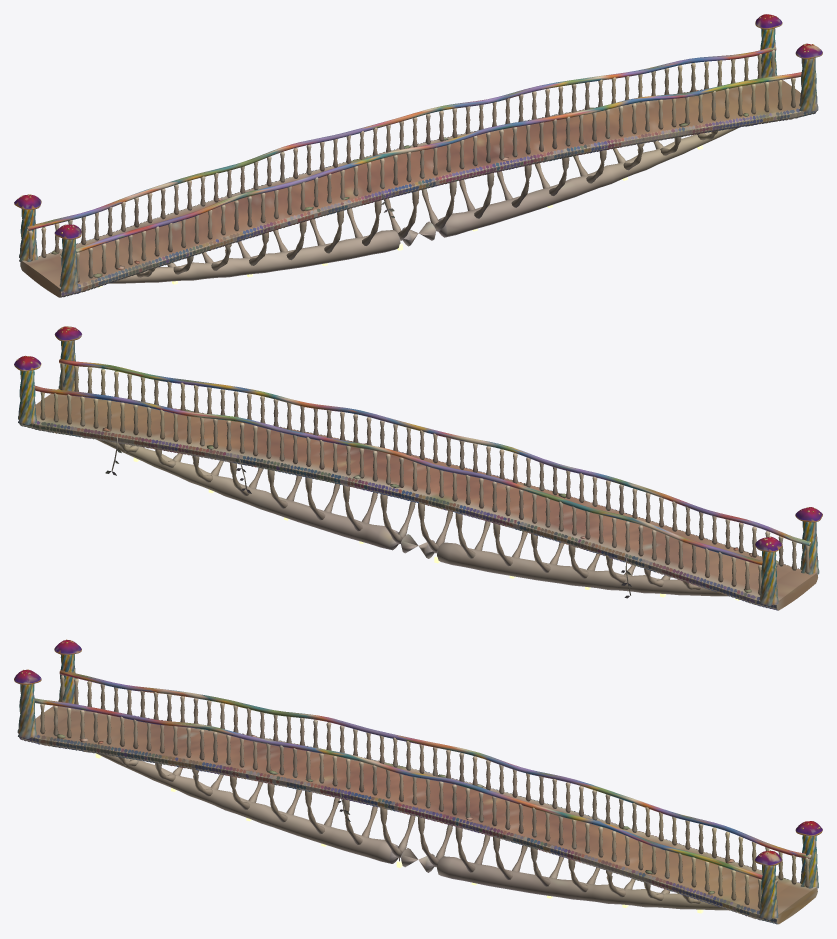
Rendered from kopru_gecit_28.glb.
The picture shows the model from 3 angles, top to bottom: view 1: azimuth 30°, elevation 25°; view 2: azimuth 150°, elevation 25°; view 3: azimuth 330°, elevation 25°; orthographic projection.
Visible parts, largest first — view 1: kopru_gecit_28_LOD0; view 2: kopru_gecit_28_LOD0; view 3: kopru_gecit_28_LOD0.
Boxes of the visible parts, x1,y1,x2,y2 form: kopru_gecit_28_LOD0: (14, 14, 822, 297); kopru_gecit_28_LOD0: (14, 326, 822, 610); kopru_gecit_28_LOD0: (14, 639, 822, 924).
Size of what is drawn, in the model's own units: 28.27 by 4.41 by 3.51.
